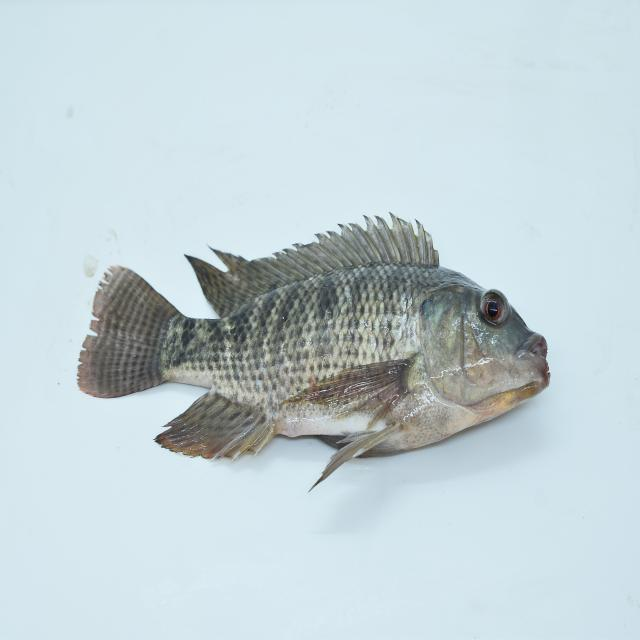Columnaris Disease: (52, 208, 602, 490)
